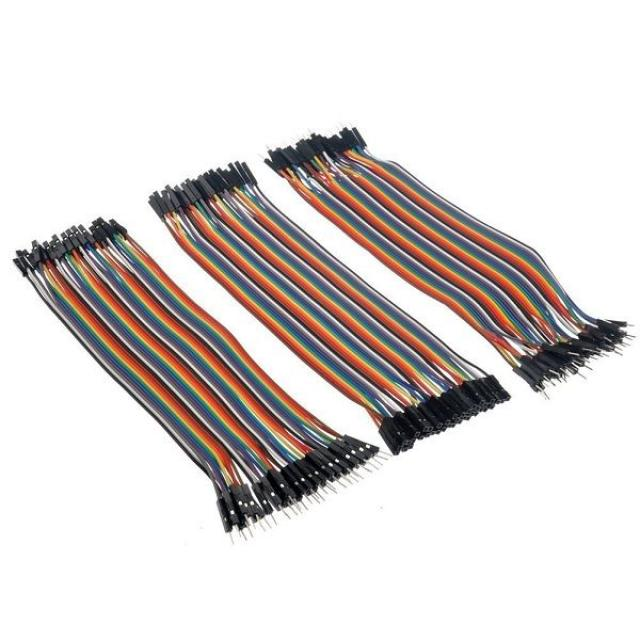Jumper Wires: (0, 93, 640, 565)
